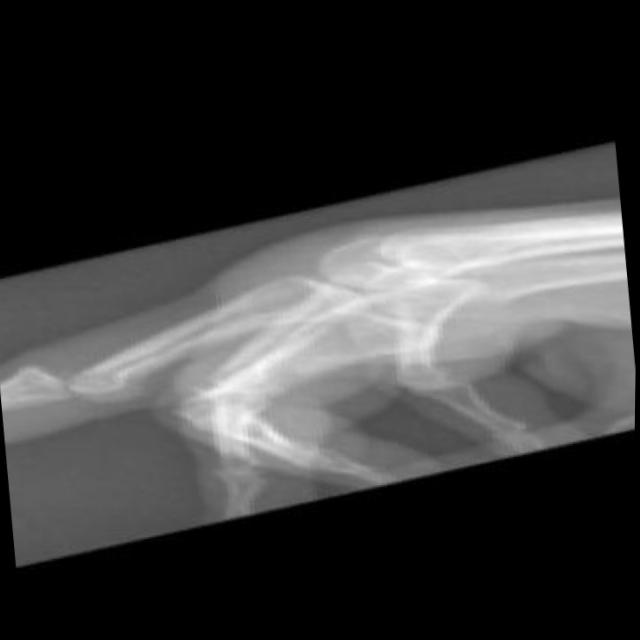fracture: (0, 342, 125, 418)
